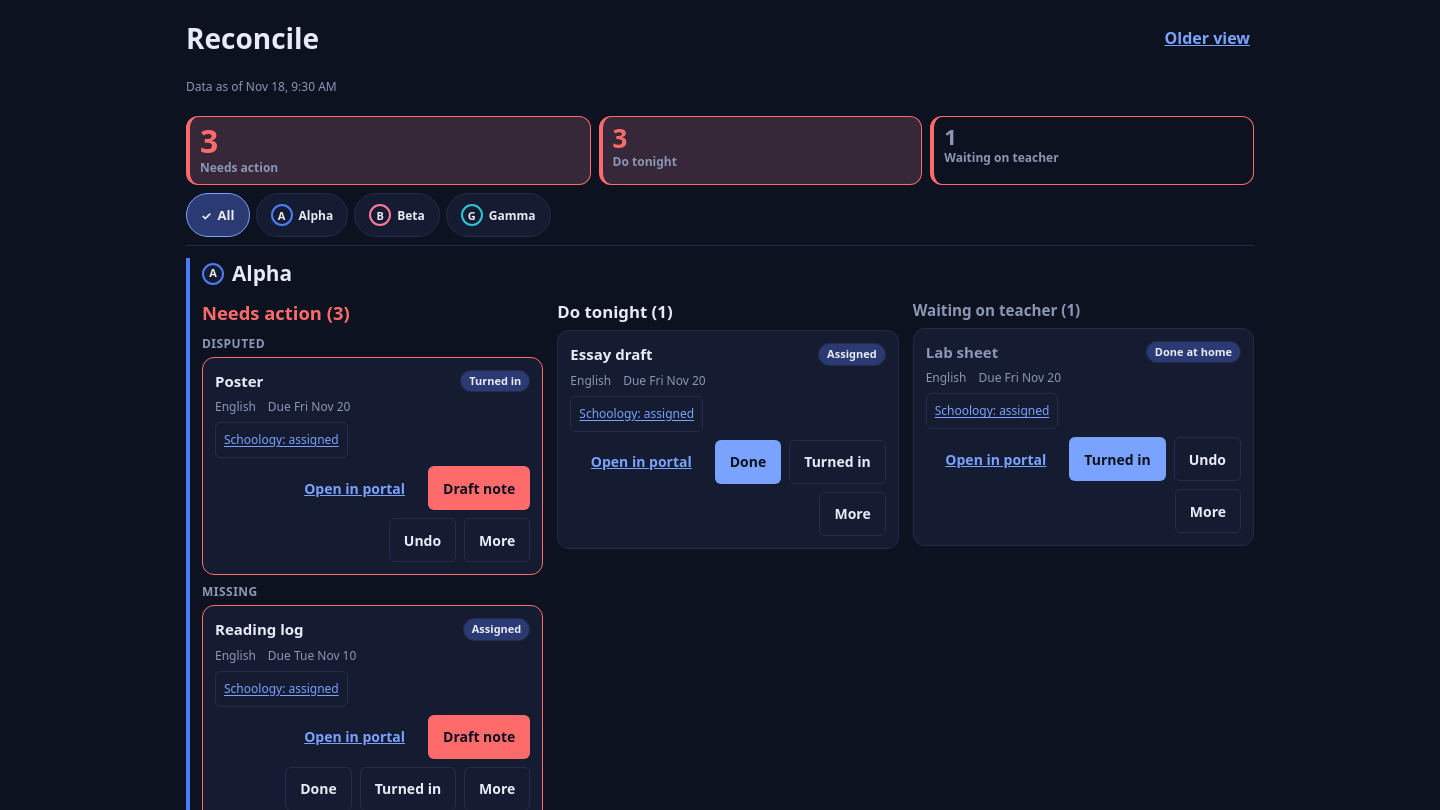
Test: optimistic: a Turned in tap moves the row and updates the counts before the server answers
Expected: the heading "Alpha" is shown, [232,258,292,289]
Step 1. Click the button with aria-label "Mark Essay draft (English, Alpha) turned in" → (838, 462), box [789,440,886,484]
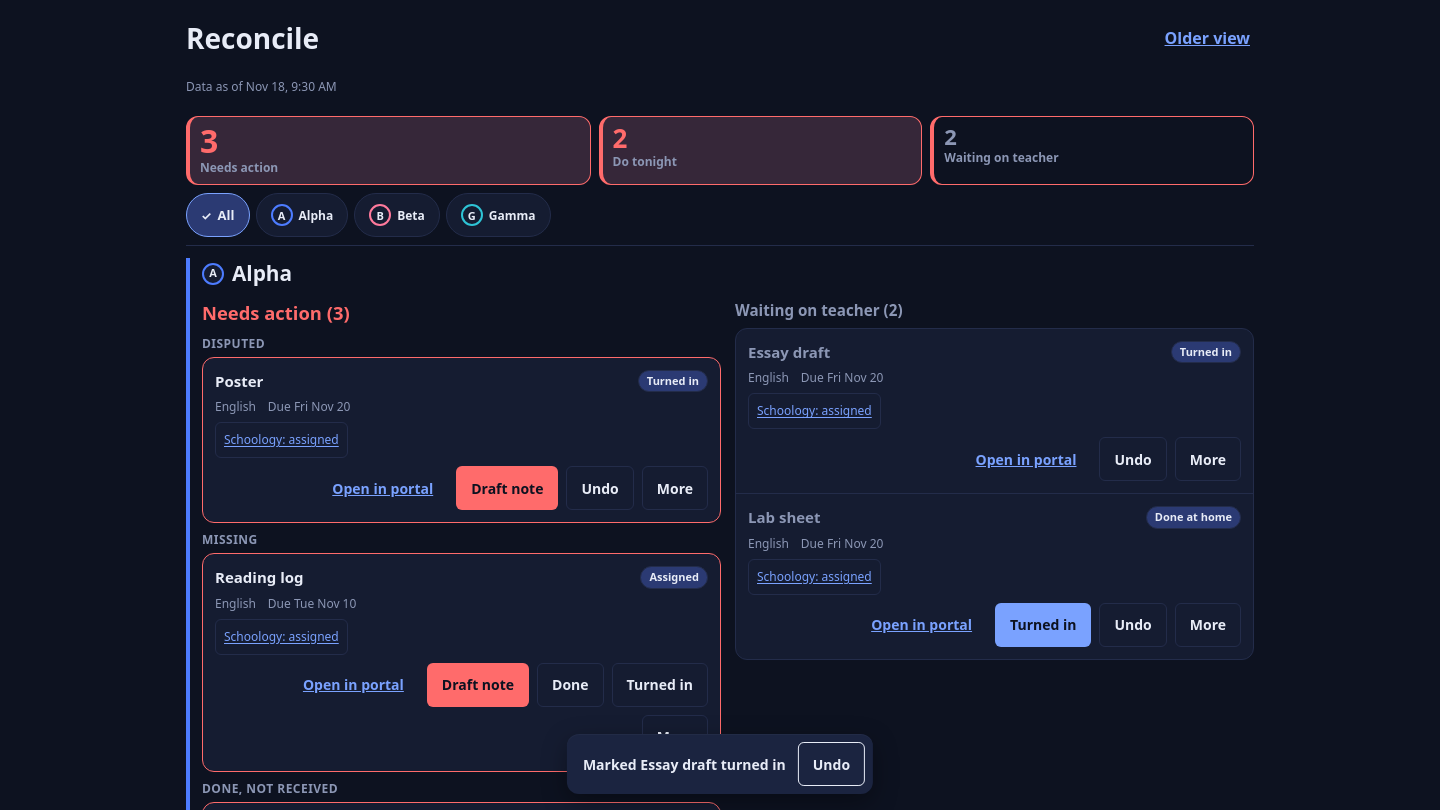
Now the button "2 Waiting on teacher" is shown, box [930,116,1254,185]
Now the button "2 Do tonight" is shown, box [599,116,922,185]
Now the 1st text "Turned in" is shown, box [1171,341,1241,364]
